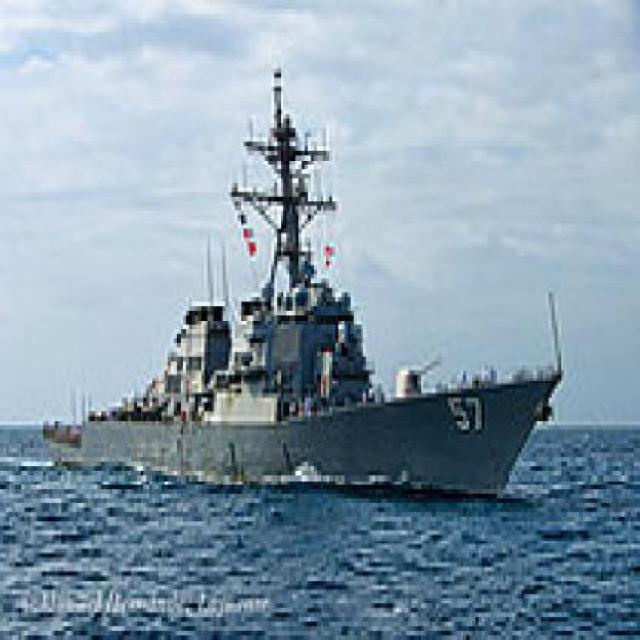warship2: (19, 51, 556, 522)
